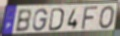4: (66, 7, 79, 30)
B: (14, 8, 32, 34)
D: (48, 8, 65, 32)
F: (80, 5, 100, 31)
G: (32, 8, 48, 32)
O: (97, 5, 115, 30)
